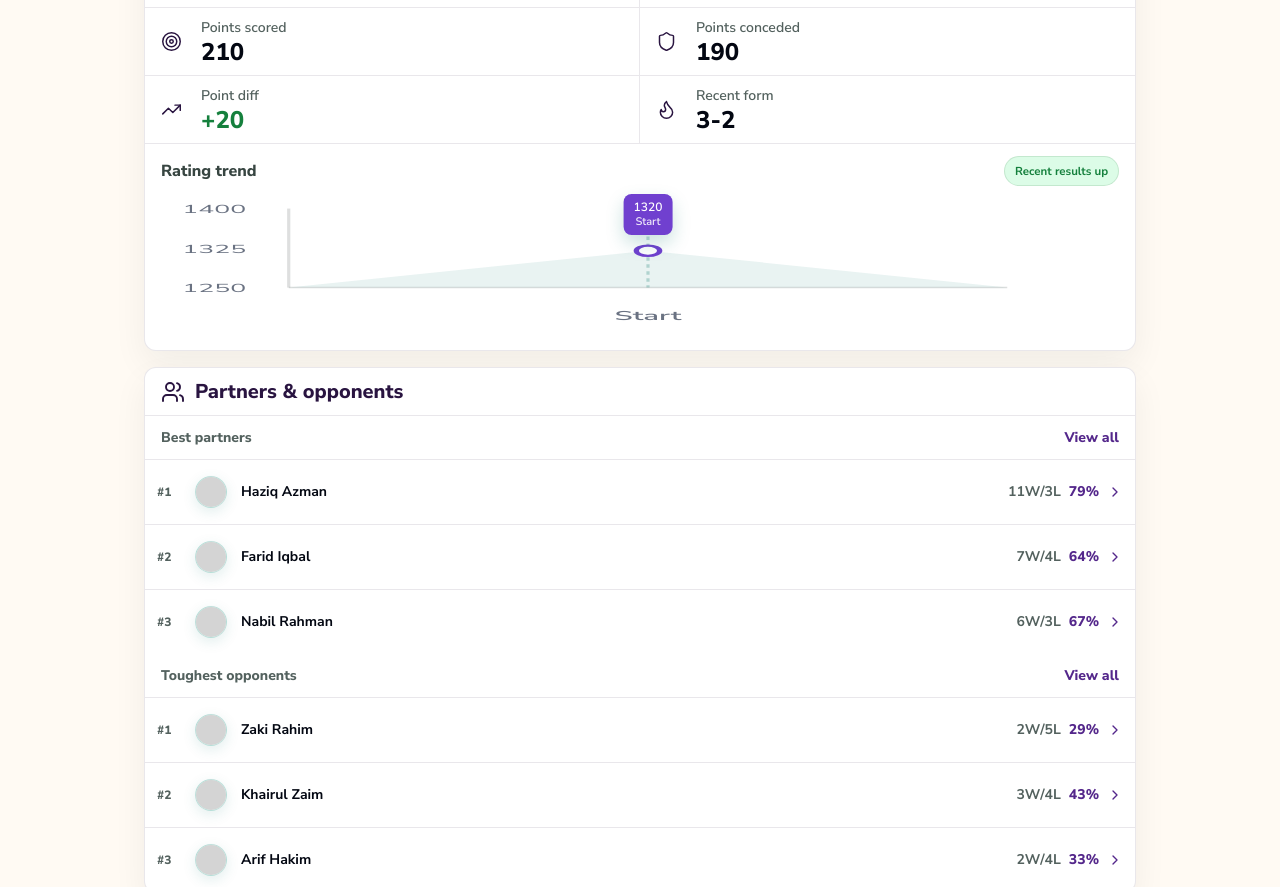
PlayerProfileView › renders relationship previews and opens group-specific full lists
(page scrolled)
Expected: the text "Syafiq Halim" is not shown
Click the button with aria-label "View all Best partners": click(1092, 438) [1064, 428, 1119, 448]
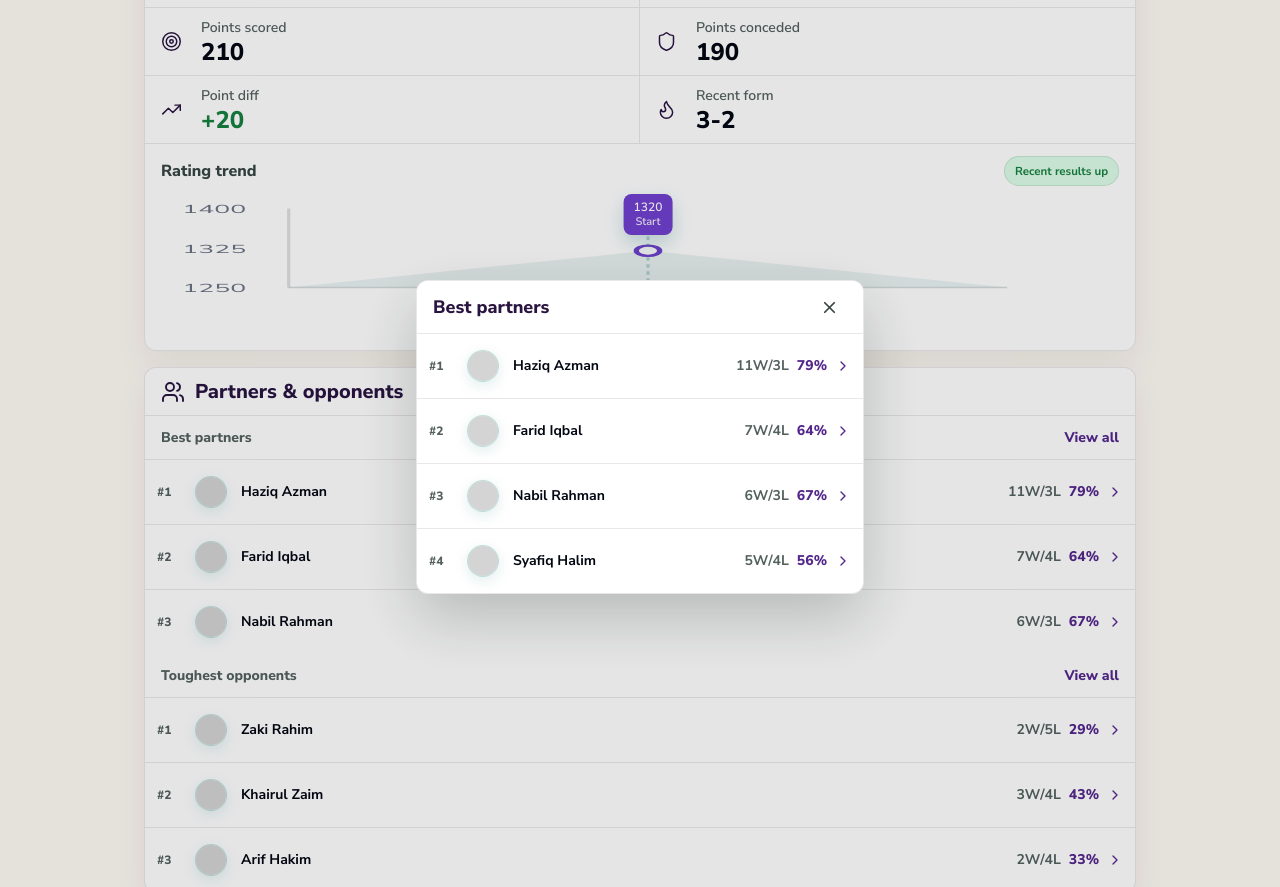
Now the text "Syafiq Halim" is shown, box [513, 551, 596, 570]
Now the text "5W/4L" is shown, box [744, 551, 789, 571]
Now the button named "Close" is shown
Click the button named "Close": click(829, 307) [811, 289, 847, 325]
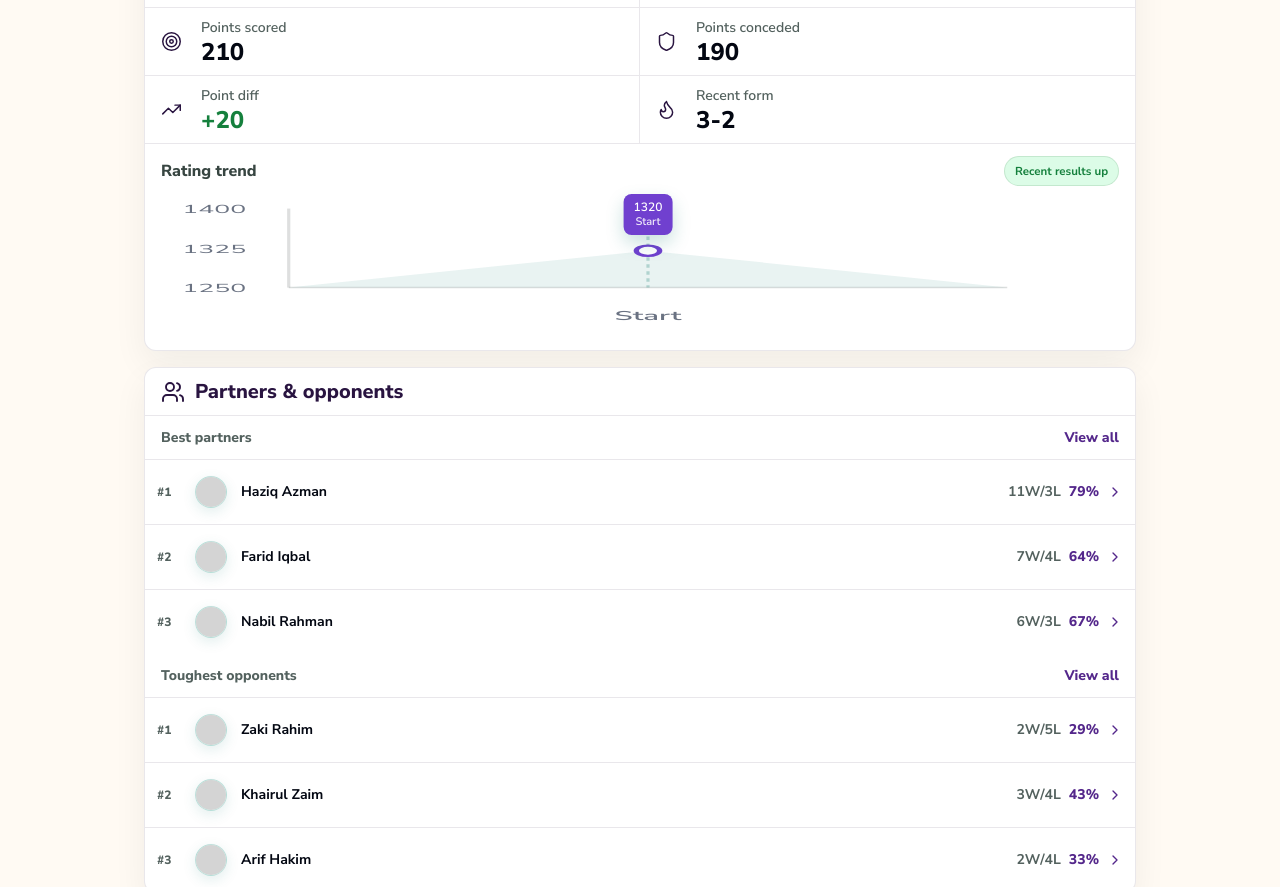
Now the text "Syafiq Halim" is gone
